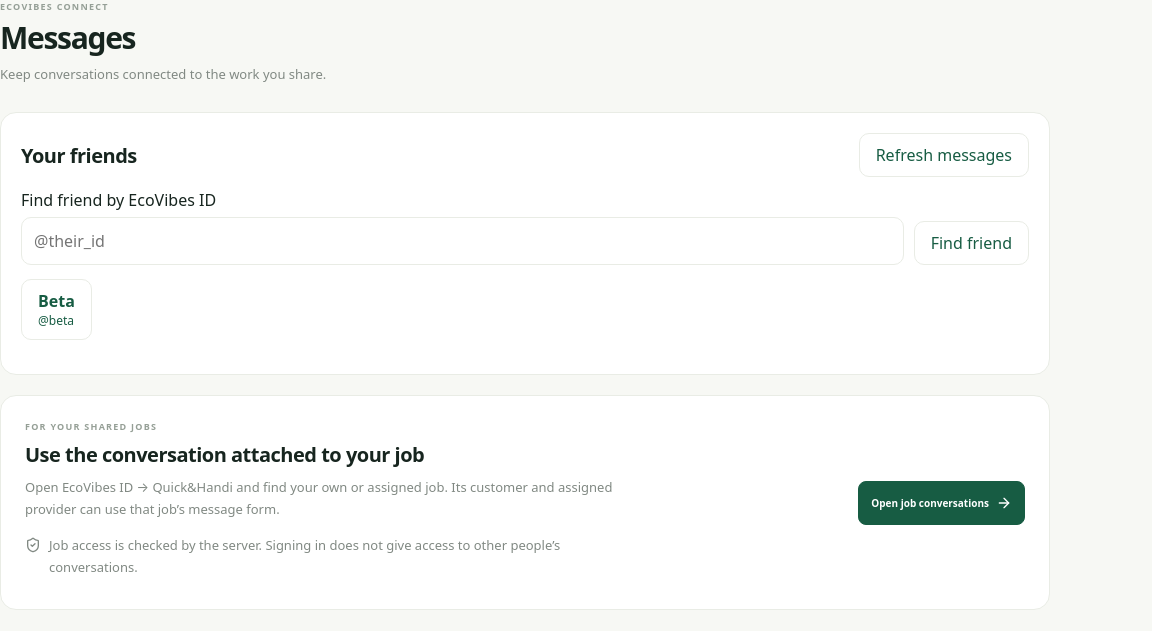
accepted-friend text conversations › keeps an uncertain send for explicit idempotent retry without claiming delivery
The width and height of the screenshot is (1152, 631).
Click the button with aria-label "Message Beta": [56, 310] box [21, 279, 92, 340]
(page scrolled)
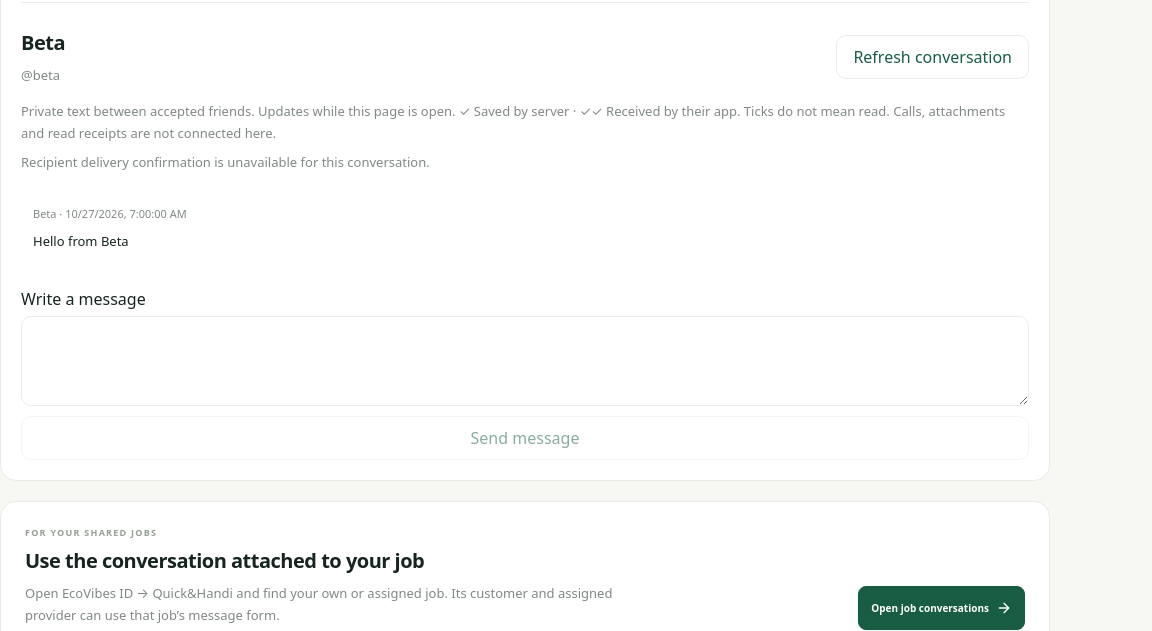
Result: the text "Hello from Beta" is shown at [33, 232, 129, 250]
In the text box labelled "Write a message": [525, 361] box [21, 316, 1029, 406], type "Can you see this?"
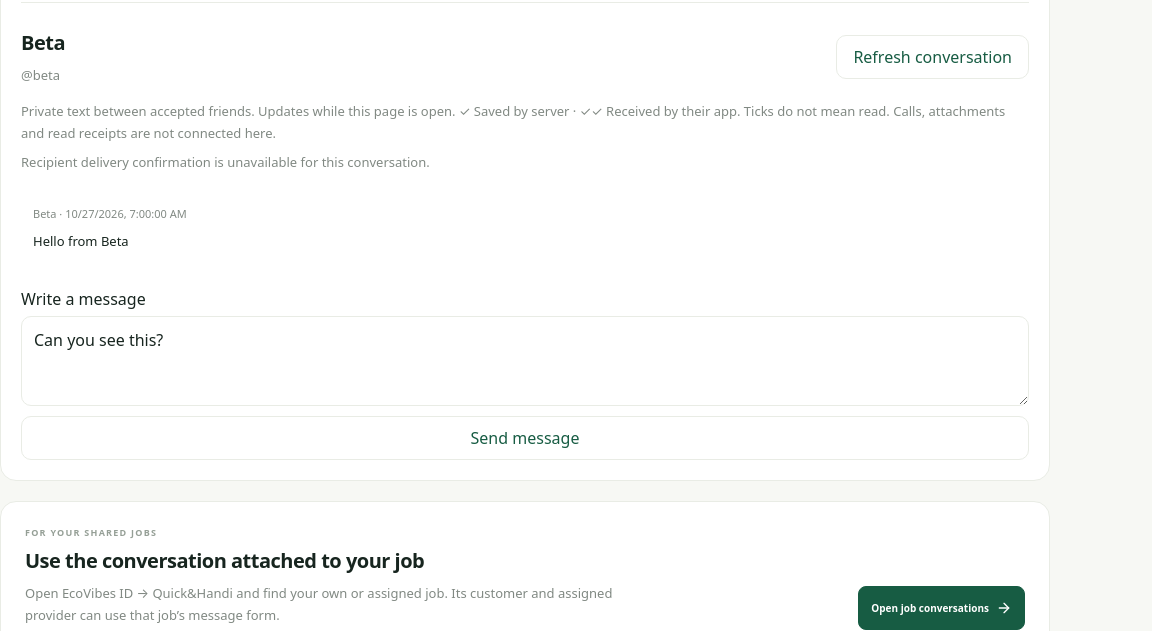
Click the button "Send message": [525, 438] box [21, 416, 1029, 460]
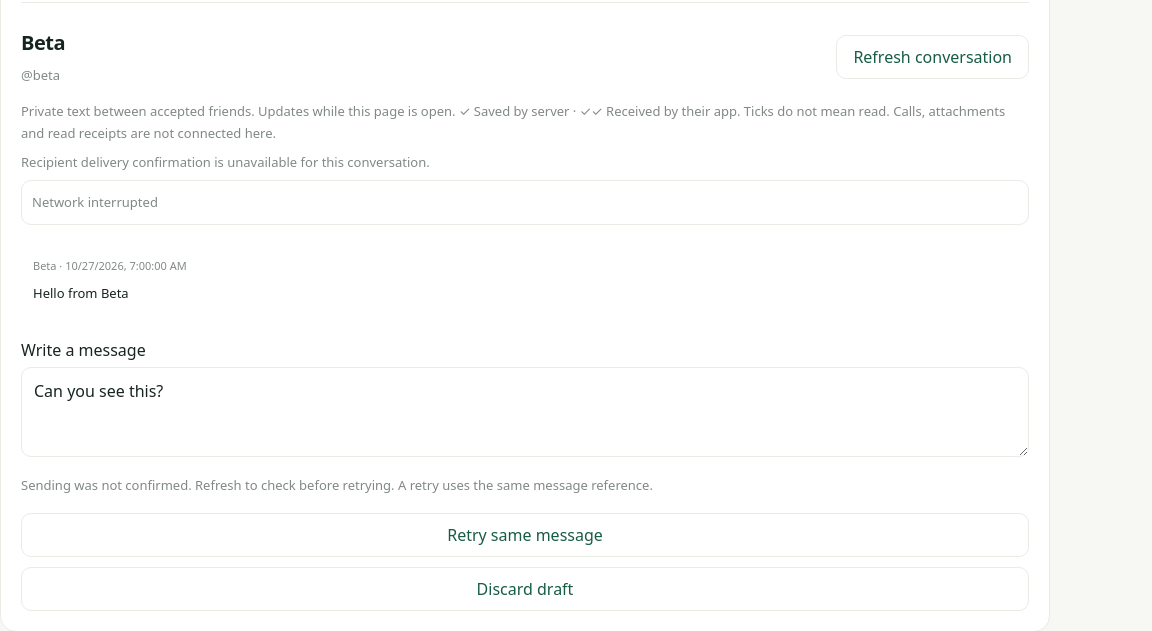
Result: the button "Retry same message" is shown
Click the button "Retry same message": [525, 535] box [21, 513, 1029, 557]
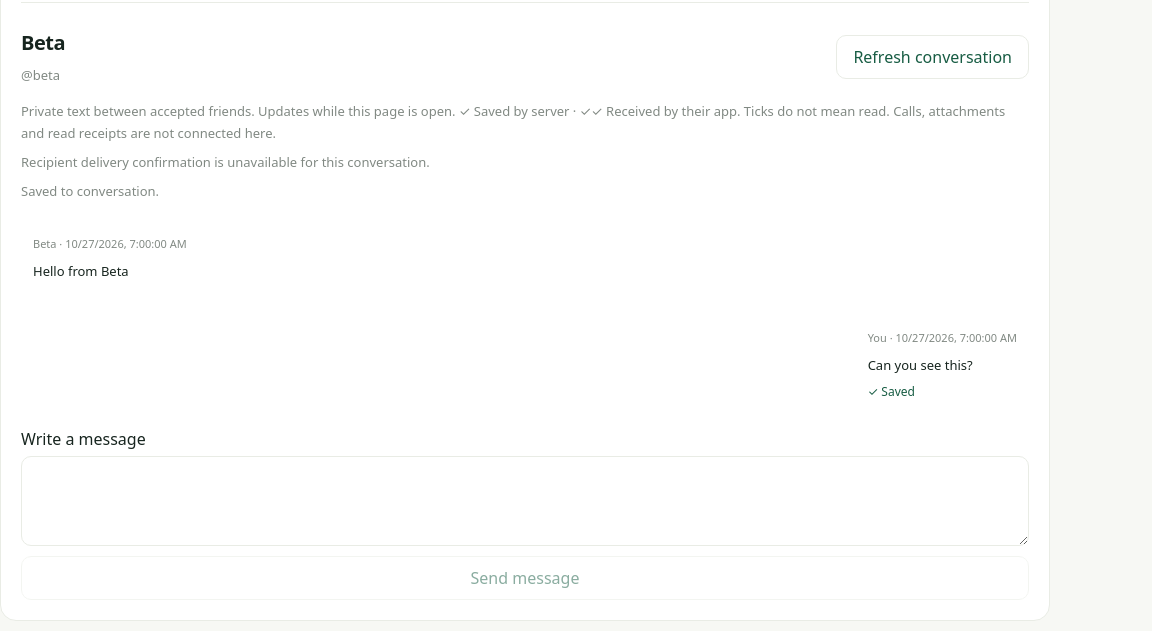
Result: the text "Can you see this?" is shown at [868, 356, 973, 374]
